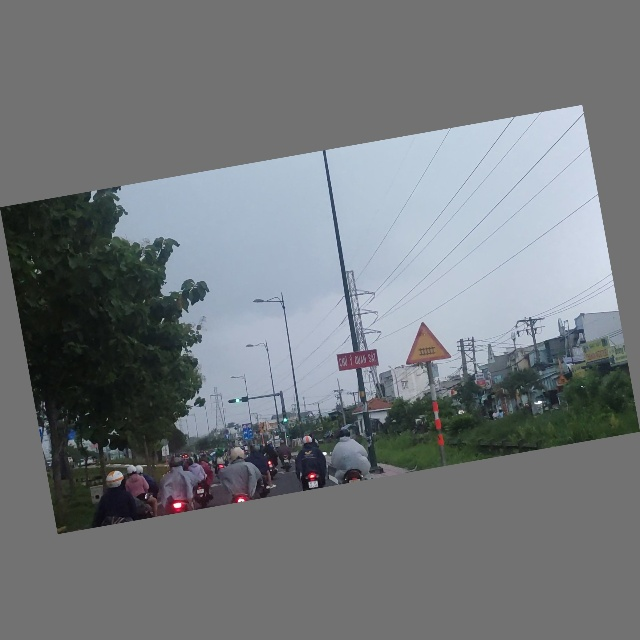W.210: (399, 318, 452, 368)
